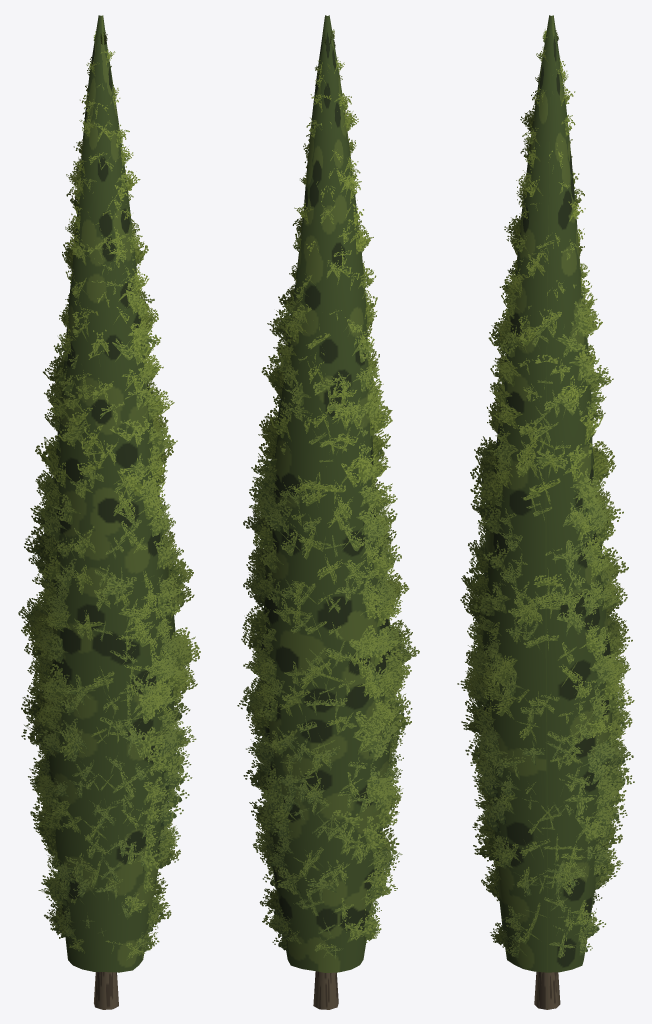
3 views of the same model, side by side, from view 1: azimuth 30°, elevation 25°; view 2: azimuth 150°, elevation 25°; view 3: azimuth 270°, elevation 25° (orthographic).
Parts seen in each view (by area): view 1: Mesh_cypress; view 2: Mesh_cypress; view 3: Mesh_cypress.
Boxes of the visible parts, x1=… form: Mesh_cypress: x1=18, y1=15, x2=200, y2=1009; Mesh_cypress: x1=237, y1=15, x2=419, y2=1009; Mesh_cypress: x1=457, y1=15, x2=634, y2=1009.
Size of the model in its own units: 1.72 by 10 by 1.7.
Materials: 1 (1 with a texture image).
